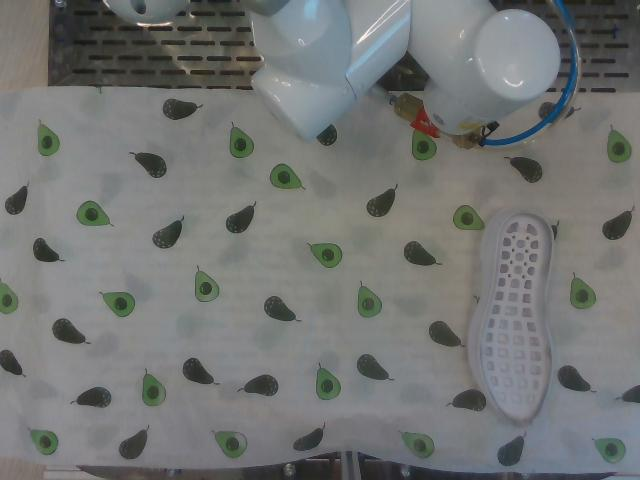shoes: (480, 213, 552, 426)
